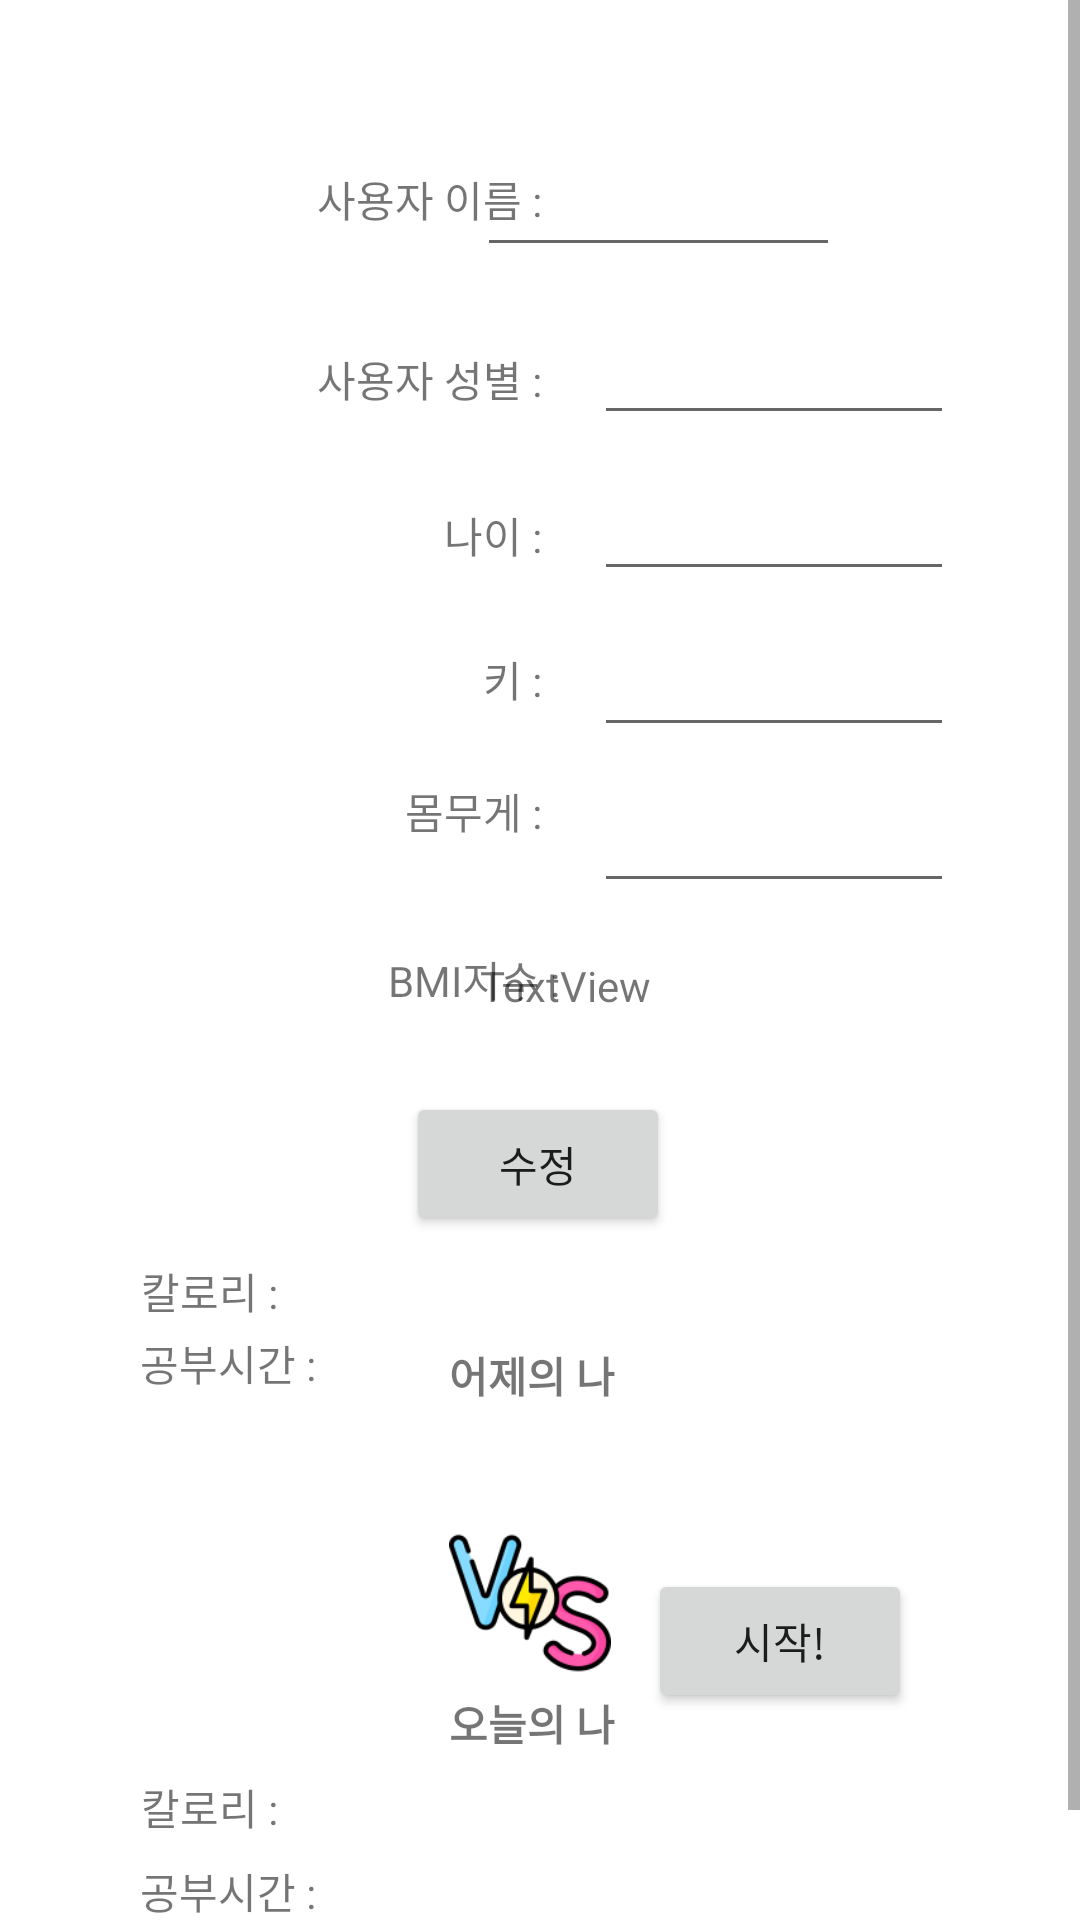

Screen size 1080*1920. Icon name, then its box in pixels as BBox(x1, y1, x2, y2):
vsimg: BBox(449, 1534, 611, 1672)
